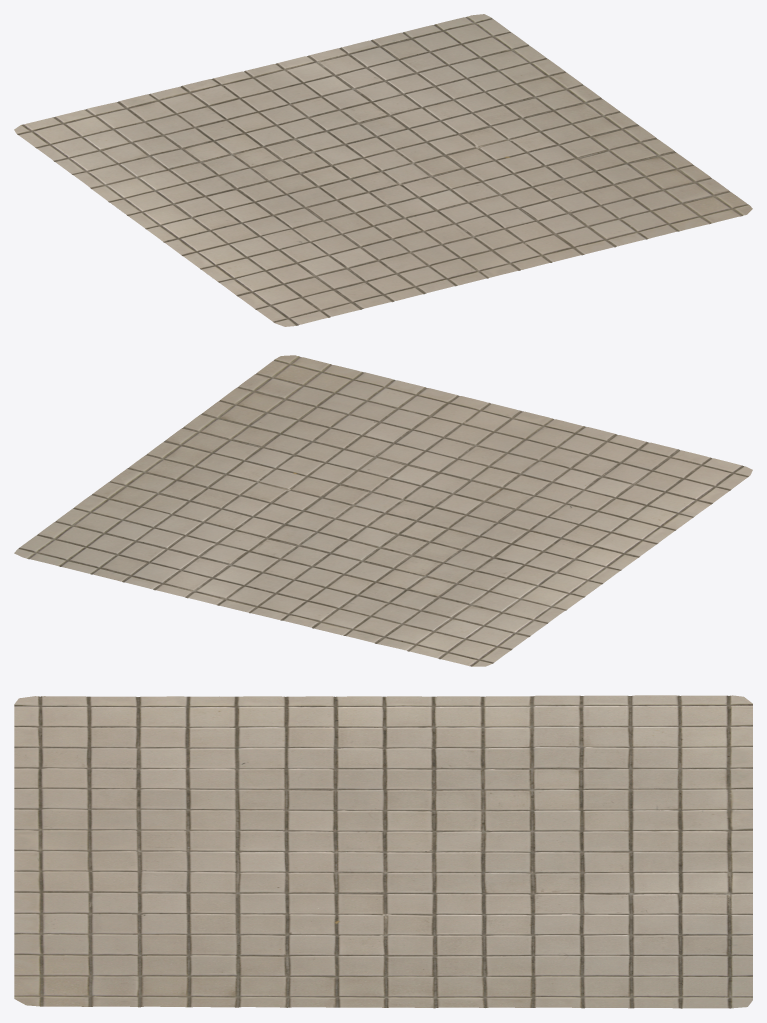
File: supermarket_tile.glb
3 views of the same model, one above another, from view 1: azimuth 30°, elevation 25°; view 2: azimuth 150°, elevation 25°; view 3: azimuth 270°, elevation 25° (orthographic). The views are drawn at different scales.
Parts seen in each view (by area): view 1: Object_2; view 2: Object_2; view 3: Object_2.
Boxes of the visible parts, <box> form: Object_2: <box>14,14,752,326</box>; Object_2: <box>14,355,752,666</box>; Object_2: <box>14,695,752,1008</box>.
Bounding box in the file's own units: 760 × 4.12 × 760.
1 material, 1 textured.
